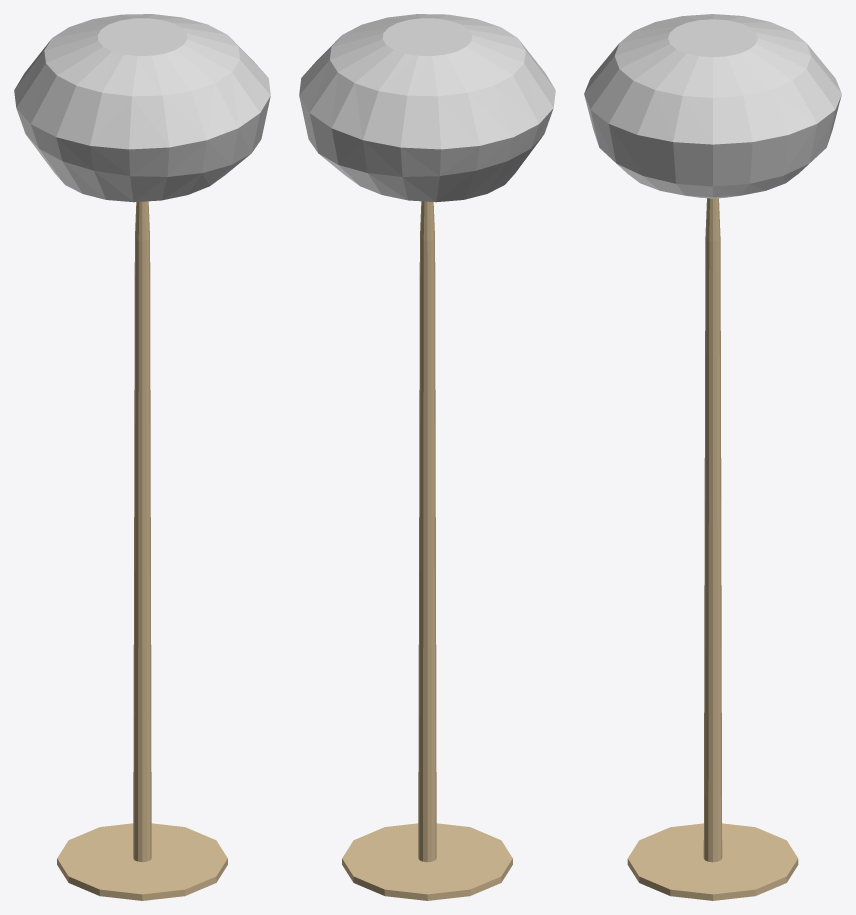
File: lamp.dae
3 views of the same model, side by side, from view 1: azimuth 30°, elevation 25°; view 2: azimuth 150°, elevation 25°; view 3: azimuth 270°, elevation 25° (orthographic).
Visible parts, largest first — view 1: skpp3h70I (×3); view 2: skpp3h70I (×3); view 3: skpp3h70I (×3).
Boxes of the visible parts, <box> form: skpp3h70I (×3): <box>14,14,270,900</box>; skpp3h70I (×3): <box>299,14,555,900</box>; skpp3h70I (×3): <box>584,14,841,900</box>.
Bounding box in the file's own units: 18.4 × 18.41 × 65.12.
